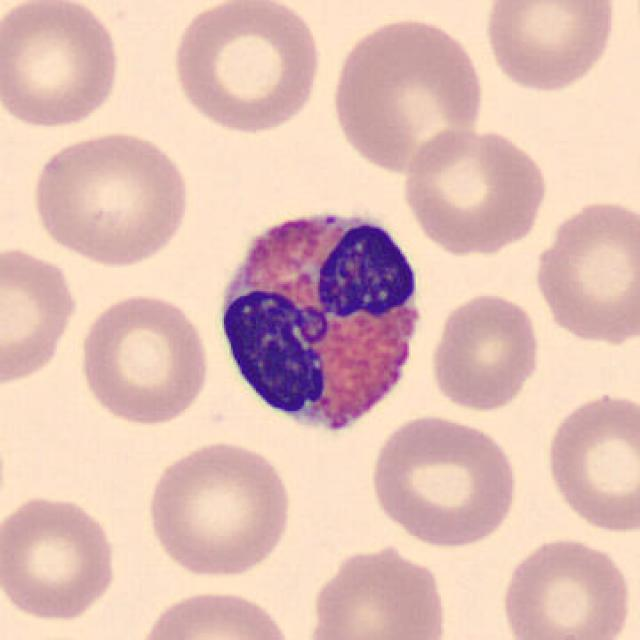Eosinophil: (206, 191, 432, 453)
RBC: (327, 11, 487, 178), (27, 125, 194, 268), (142, 436, 295, 580), (364, 411, 521, 550), (167, 0, 324, 136), (398, 124, 551, 258), (75, 289, 213, 429), (530, 194, 638, 347), (0, 0, 124, 132), (0, 490, 121, 624), (302, 539, 451, 640), (496, 532, 635, 640), (540, 388, 640, 536), (427, 289, 544, 413), (478, 0, 620, 95), (0, 240, 80, 390), (131, 585, 297, 640)
